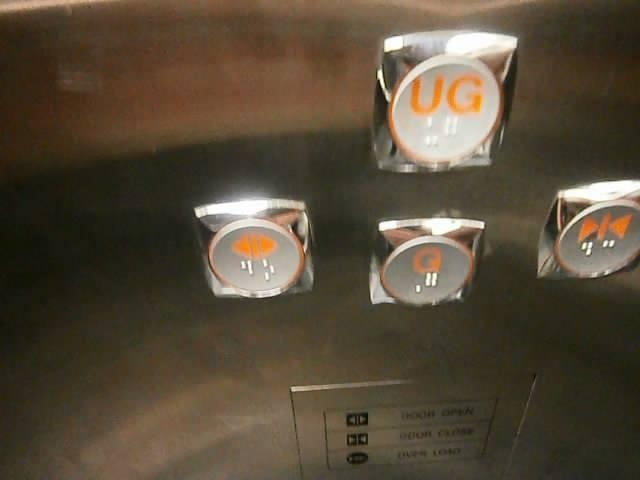G: (367, 216, 488, 312)
UG: (367, 24, 519, 174)
close: (534, 180, 640, 280), (345, 432, 370, 447)
open: (192, 198, 315, 300), (344, 410, 371, 428)
